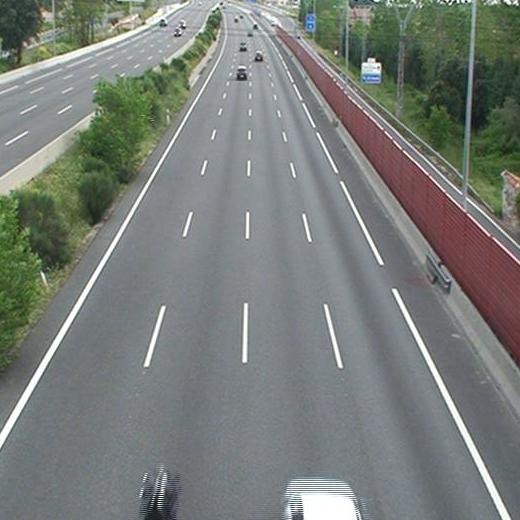car: (237, 66, 247, 79), (255, 51, 263, 61), (240, 41, 246, 52)
